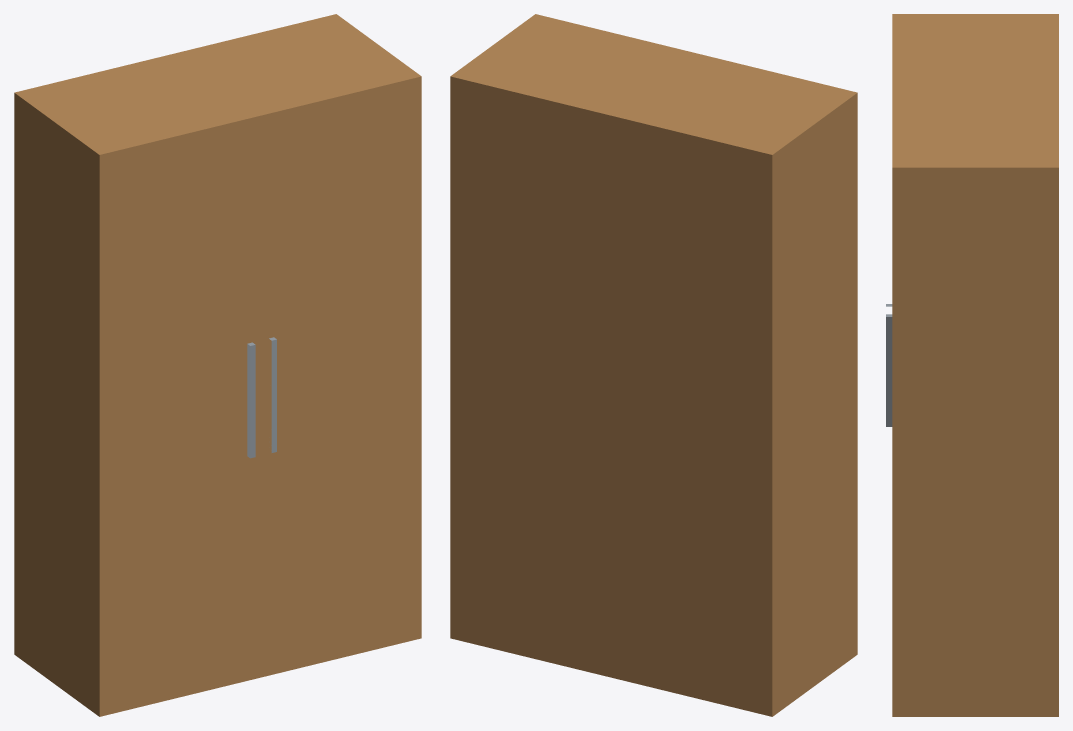
File: wardrobe.glb
3 renders of one model, left to right at view 1: azimuth 30°, elevation 25°; view 2: azimuth 150°, elevation 25°; view 3: azimuth 270°, elevation 25°, orthographic. The views are drawn at different scales.
Size of the model in its own units: 1.2 by 2 by 0.57.
